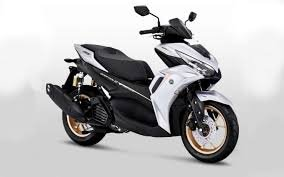motor: (46, 9, 242, 165)
